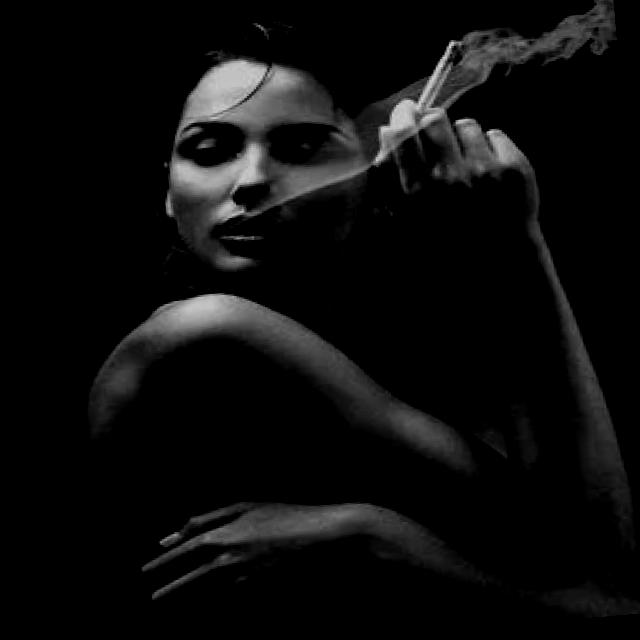cigarette: (407, 29, 467, 121)
